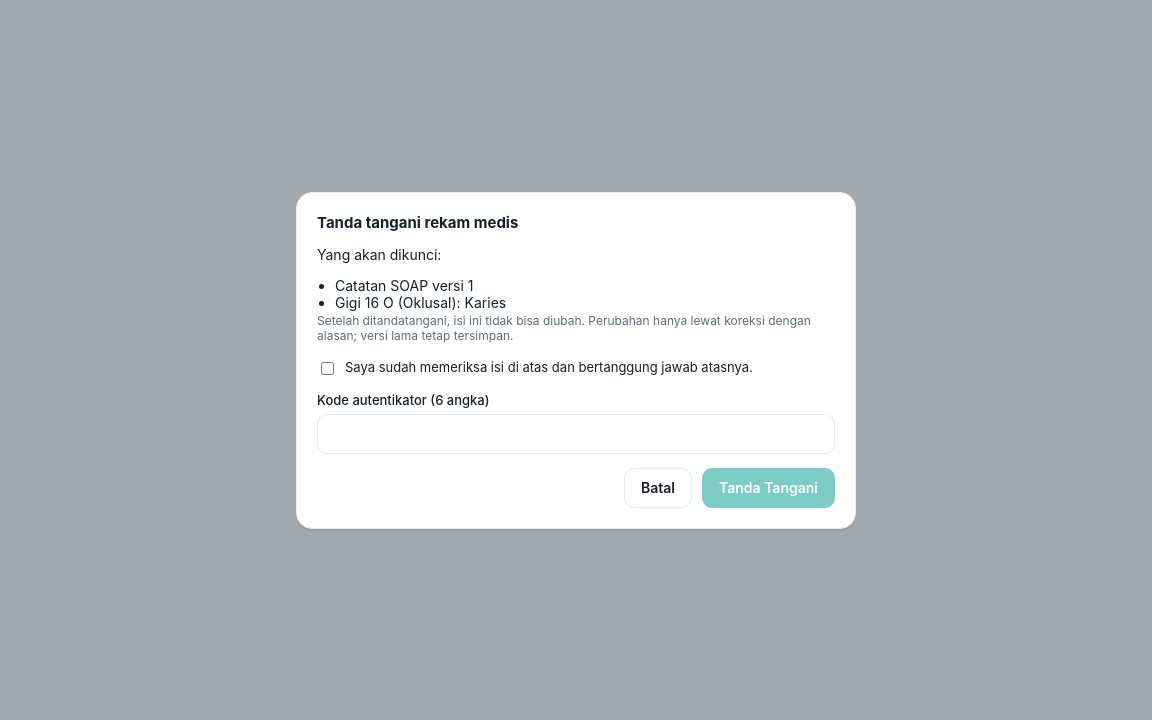
Test: sign dialog requires the check and a 6-digit code
Later steps or results of the test are not shown.
Expected: the list item "Gigi 16 O (Oklusal): Karies" is shown, [335, 294, 506, 310]
Expected: the button "Tanda Tangani" is disabled, [702, 468, 835, 508]
Click the checkbox at point(328, 368), box [321, 362, 334, 374]
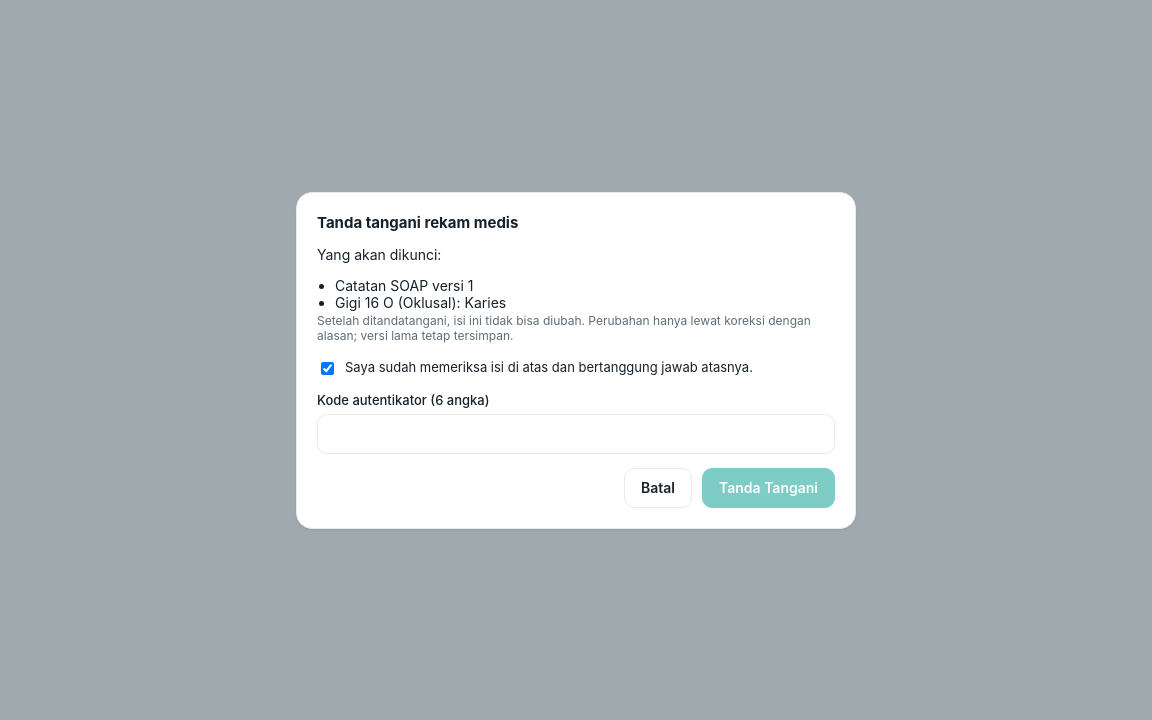
Expected: the button "Tanda Tangani" is disabled, [702, 468, 835, 508]
Type "12a34" into the field labelled "Kode autentikator (6 angka)" at point(576, 434), box [317, 414, 835, 454]
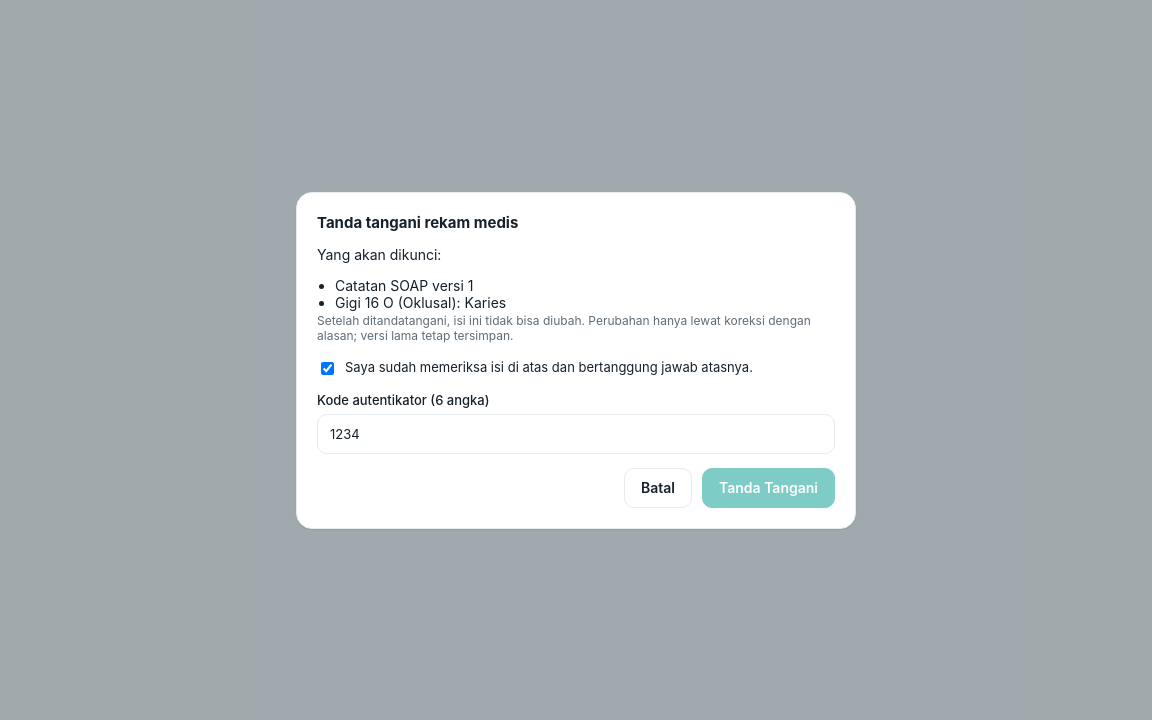
Click the button "Tanda Tangani" at point(768, 488), box [702, 468, 835, 508]
Replace the text in the field labelled "Kode autentikator (6 angka)" with "123456" at point(576, 434), box [317, 414, 835, 454]
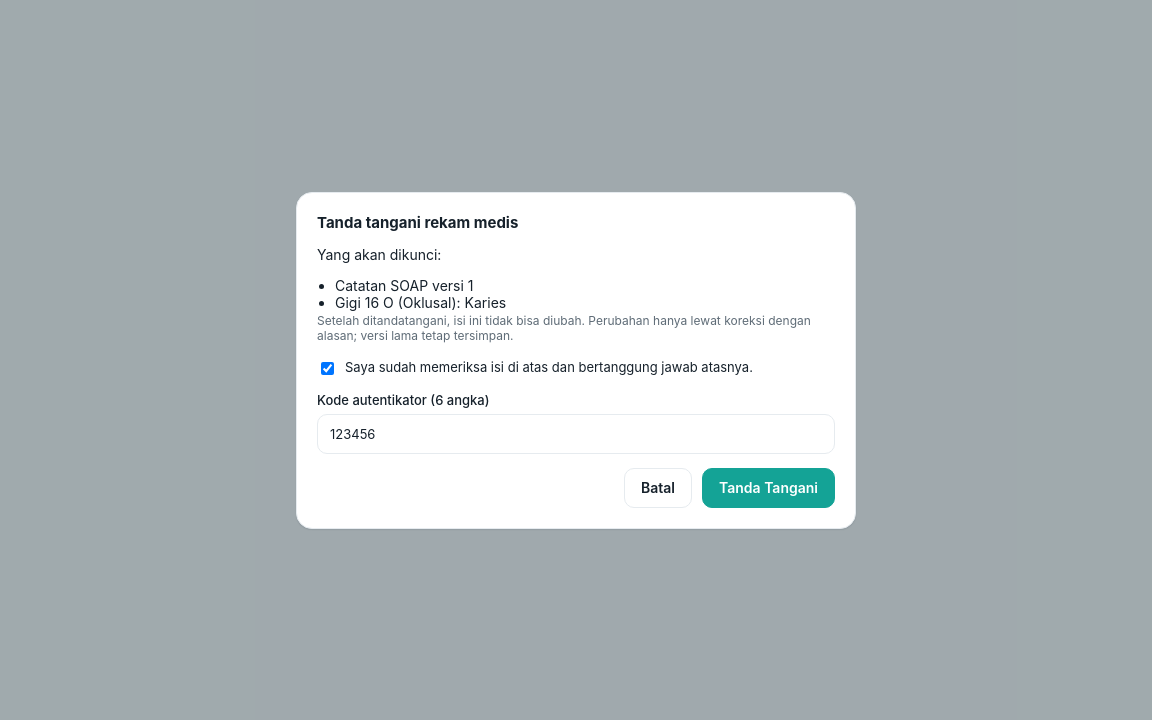
Now the button "Tanda Tangani" is enabled, box [702, 468, 835, 508]
